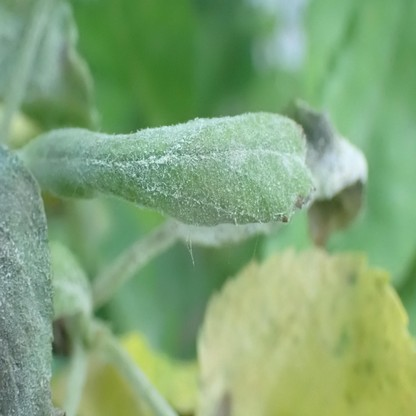powdery_mildew: (17, 112, 317, 224), (0, 143, 67, 416)
